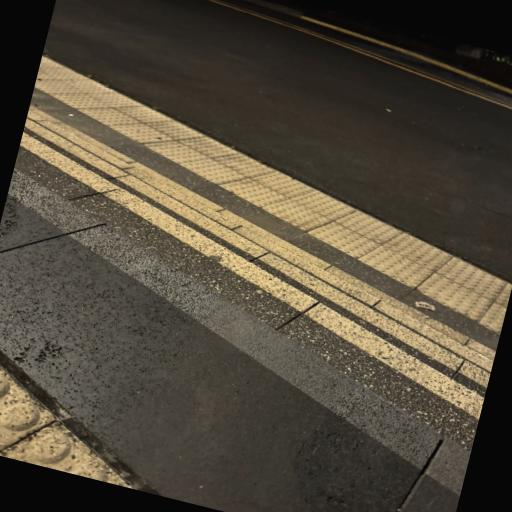stairs: (20, 107, 493, 419)
